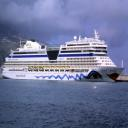cruises: (2, 35, 126, 85)
